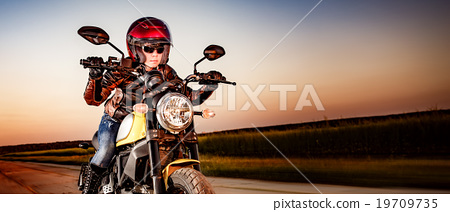helmet: (124, 16, 173, 50)
